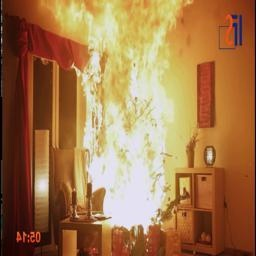fire: (48, 0, 196, 239)
